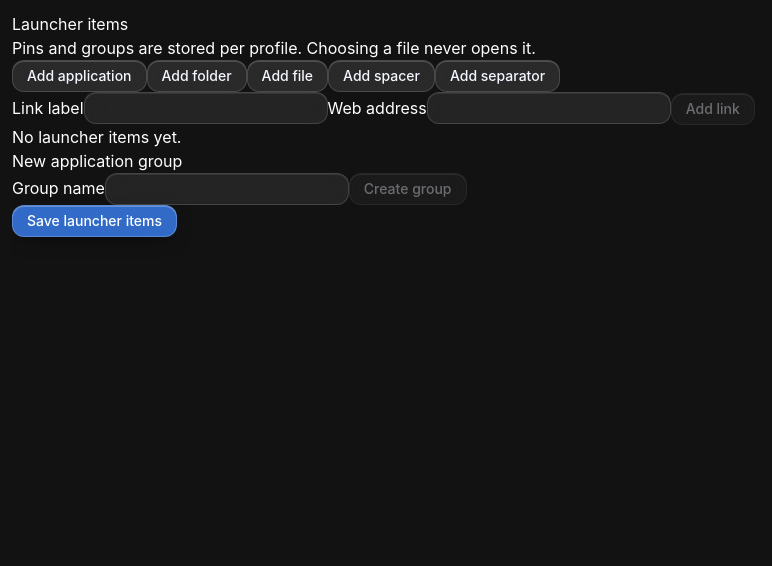
Test: LauncherItems › adds every supported item class without opening anything until an explicit chooser
Expected: the text "No launcher items yet." is shown, [12,126,182,146]
Click the button "Add application" at (79, 76), box [12,60,146,92]
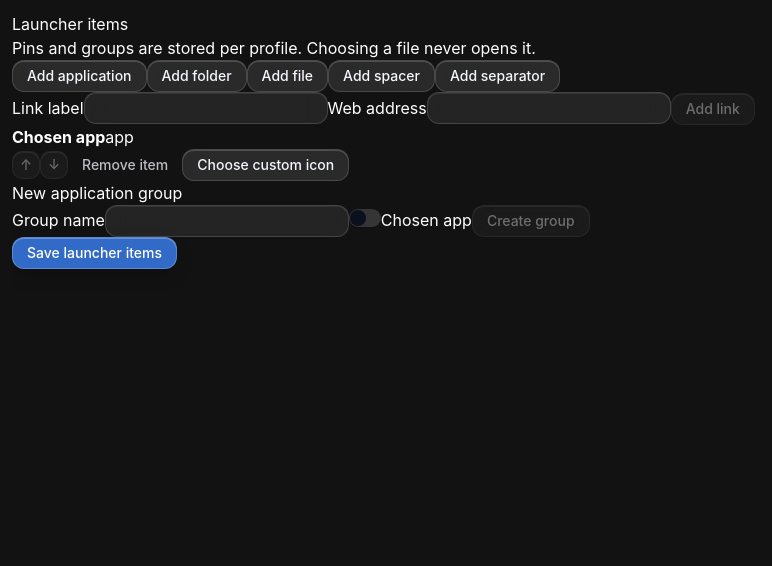
Click the button "Add folder" at (197, 76), box [146,60,247,92]
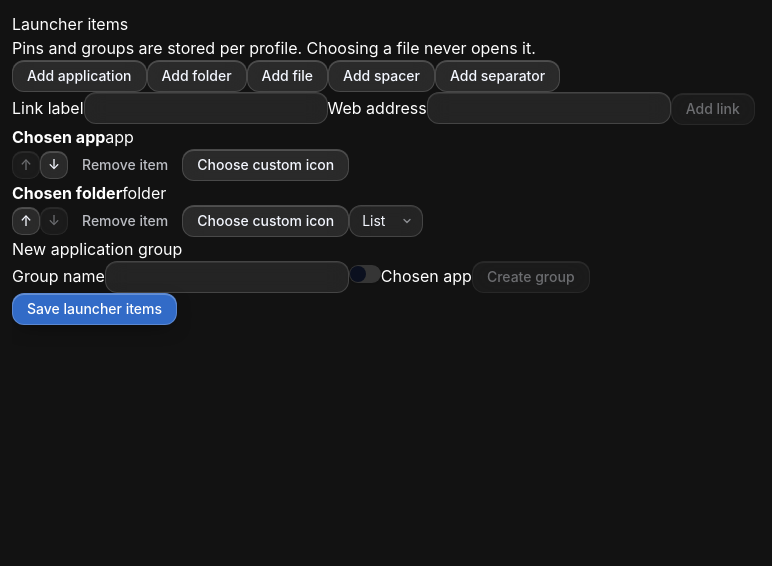
Expected: the number of elements with test id "launcher-item" is 2, [12,126,349,180]; [12,182,423,236]
Click the button "Add file" at (287, 76), box [247,60,328,92]
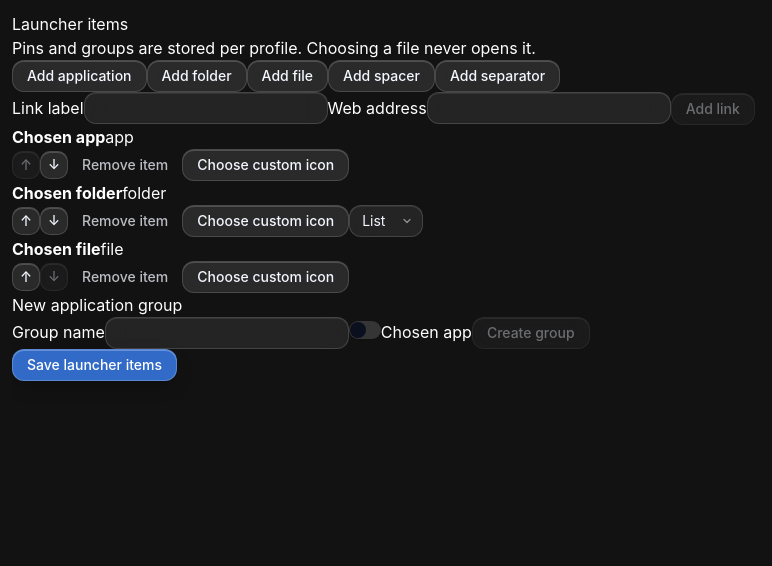
Expected: the number of elements with test id "launcher-item" is 3, [12,126,349,180]; [12,182,423,236]; [12,238,349,292]
Click the button "Add spacer" at (382, 76), box [328,60,435,92]
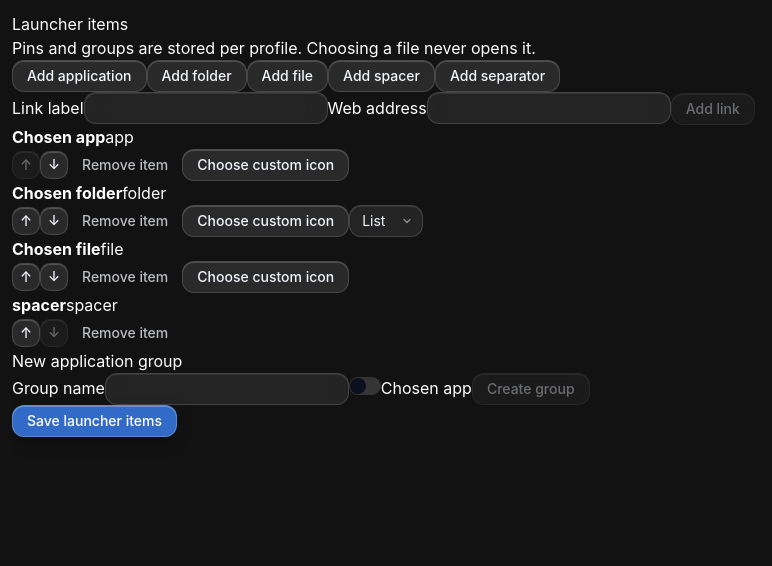
Expected: the number of elements with test id "launcher-item" is 4, [12,126,349,180]; [12,182,423,236]; [12,238,349,292]; [12,294,182,348]
Click the button "Add separator" at (498, 76), box [435,60,560,92]
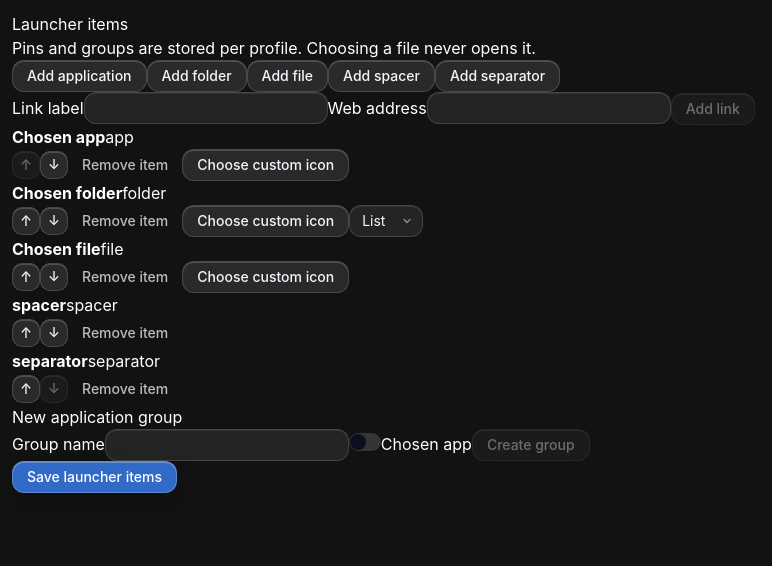
Expected: the number of elements with test id "launcher-item" is 5, [12,126,349,180]; [12,182,423,236]; [12,238,349,292]; [12,294,182,348]; [12,350,182,404]
Type "Guide" into the field labelled "Link label" at (206, 108), box [84,92,328,124]
Type "https://example.com/guide" into the field labelled "Web address" at (549, 108), box [427,92,671,124]
Click the button "Add link" at (713, 108), box [671,92,755,124]
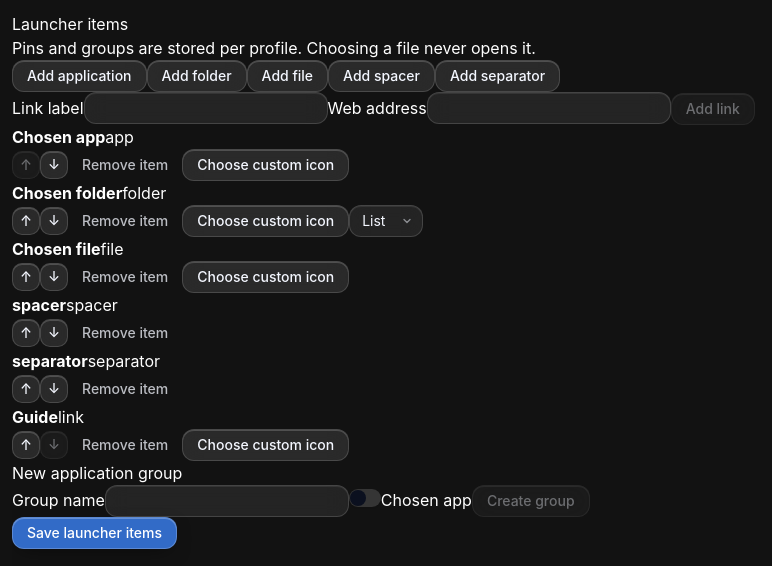
Expected: the text "Guide" is shown, [12,406,58,426]
Expected: the number of elements with test id "launcher-item" is 6, [12,126,349,180]; [12,182,423,236]; [12,238,349,292]; [12,294,182,348]; [12,350,182,404]; [12,406,349,460]
